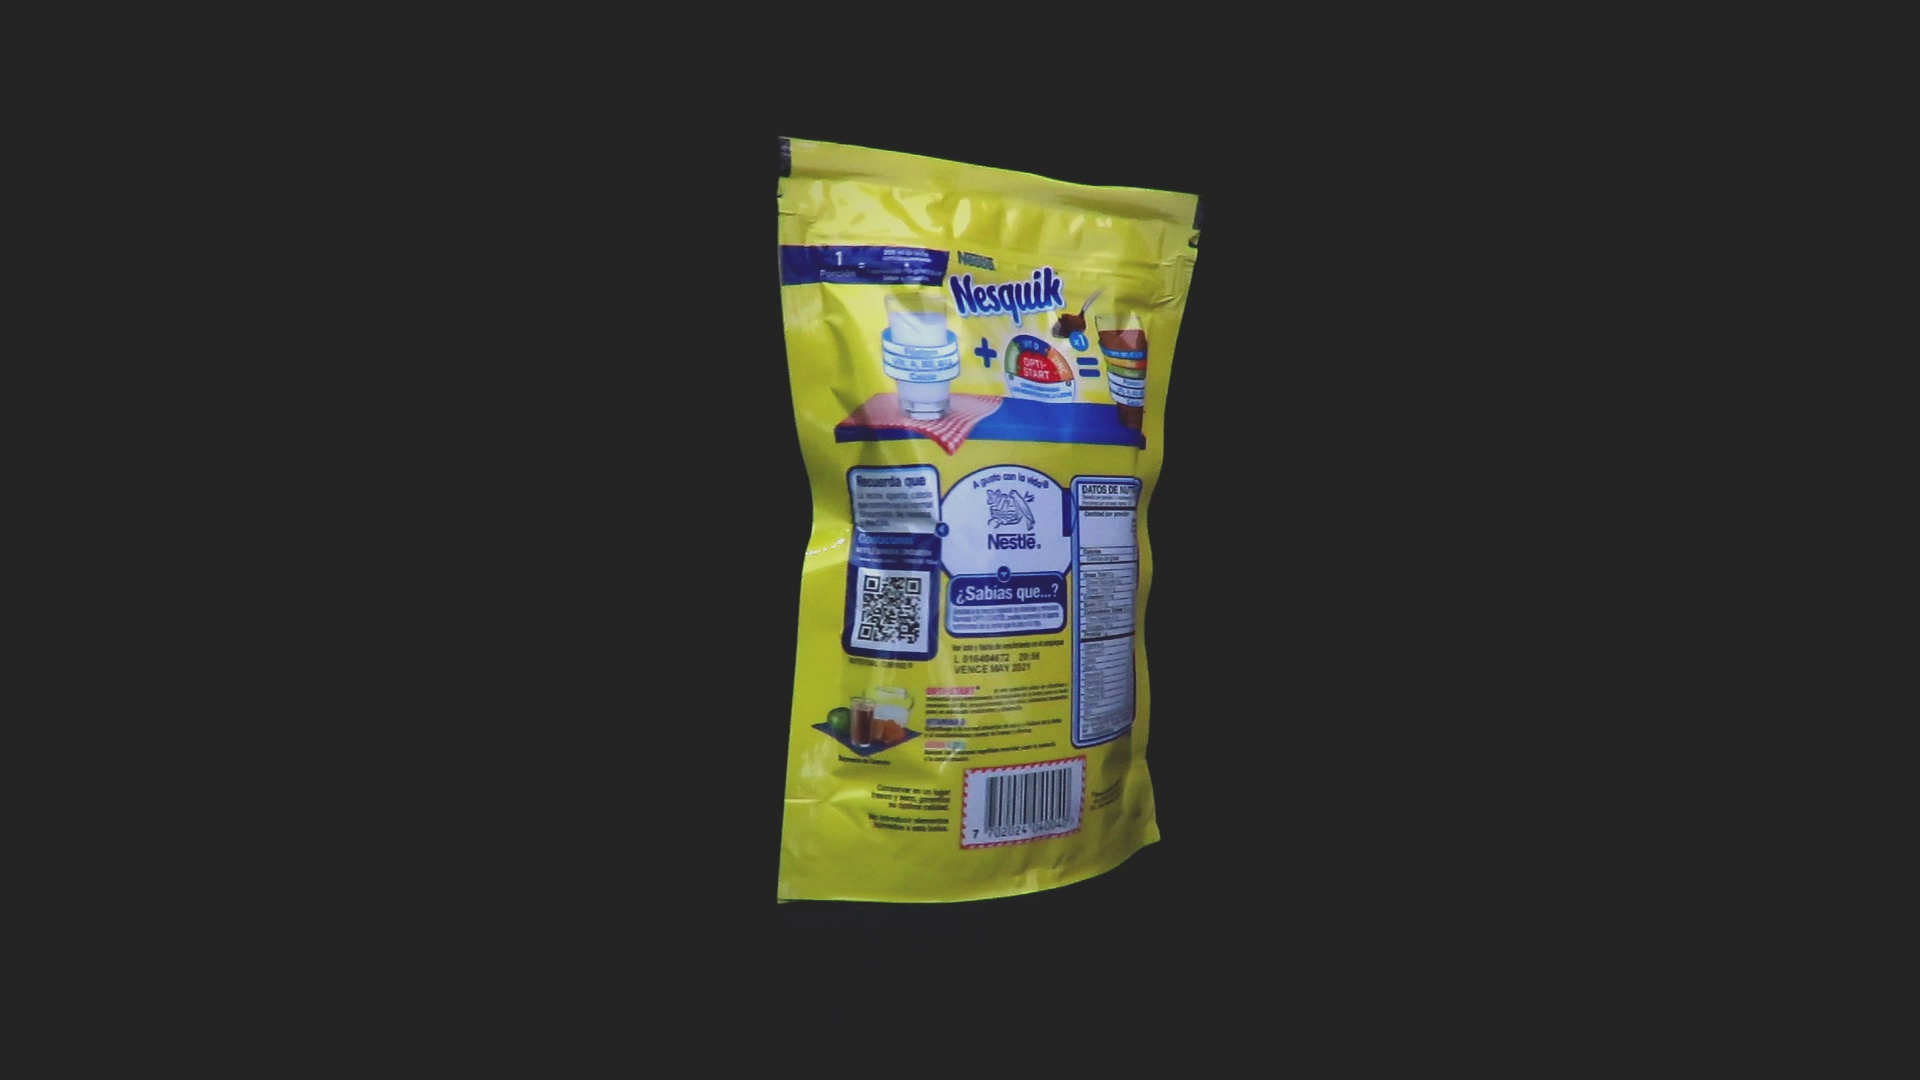COL0170303DYP20000: (771, 131, 1207, 910)
